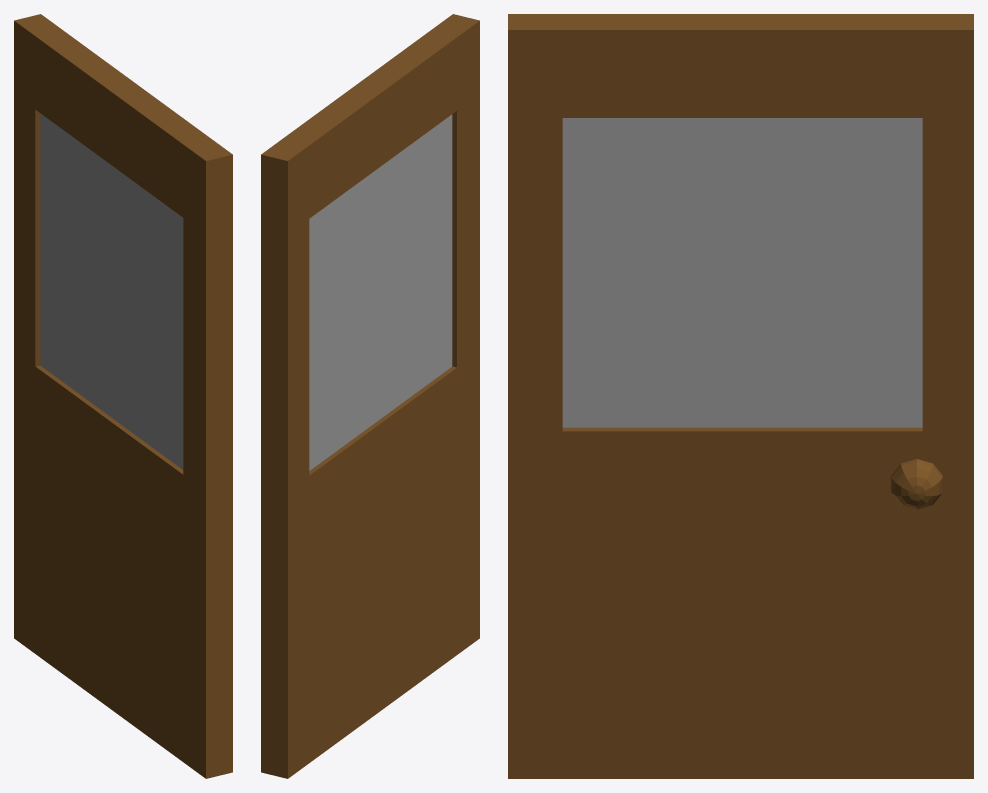
The model's file is SingleDoor.fbx.
The picture shows the model from 3 angles, left to right: view 1: azimuth 30°, elevation 25°; view 2: azimuth 150°, elevation 25°; view 3: azimuth 270°, elevation 25°; orthographic projection. The views are drawn at different scales.
Visible parts, largest first — view 1: polySurface77; view 2: polySurface77; view 3: polySurface77.
Part boxes in pixels (x1,y1,x2,y2): polySurface77: (14, 14, 232, 778); polySurface77: (261, 14, 479, 778); polySurface77: (508, 14, 973, 778).
Bounding box in the file's own units: 0.3835 × 5.14 × 2.9.
